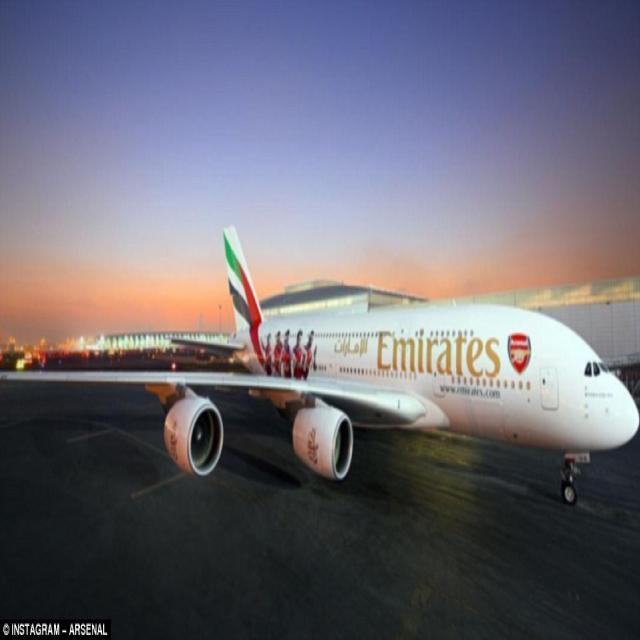Emirates: (378, 329, 501, 380)
